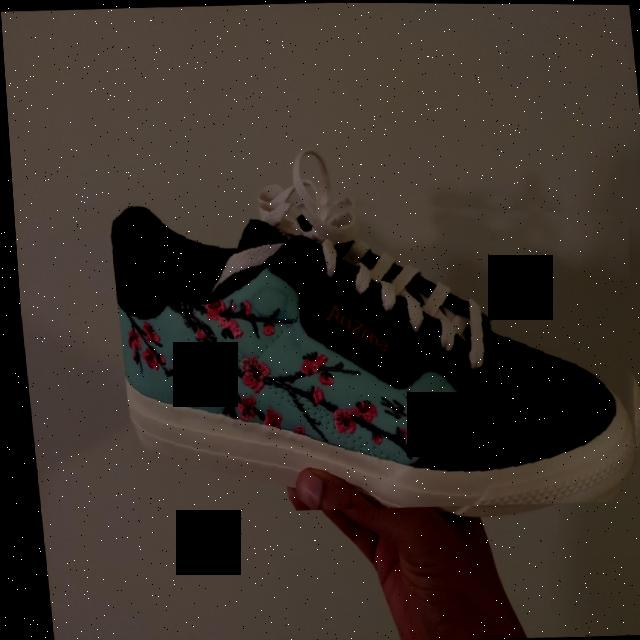shoe: (103, 178, 640, 517)
